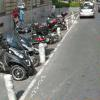Motorcycle: (0, 29, 39, 83)
